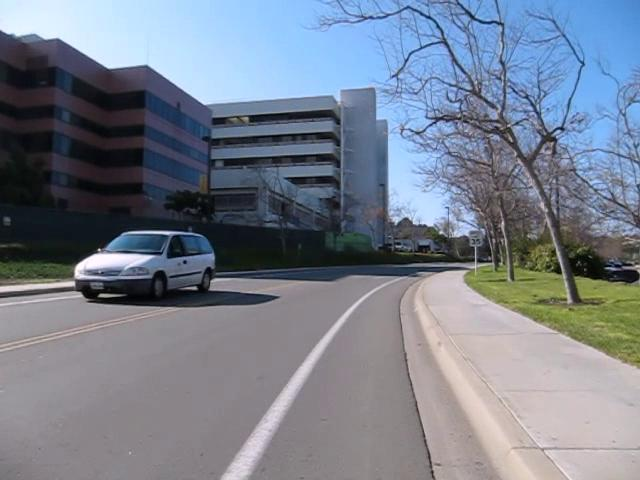speedLimit35: (468, 228, 483, 247)
